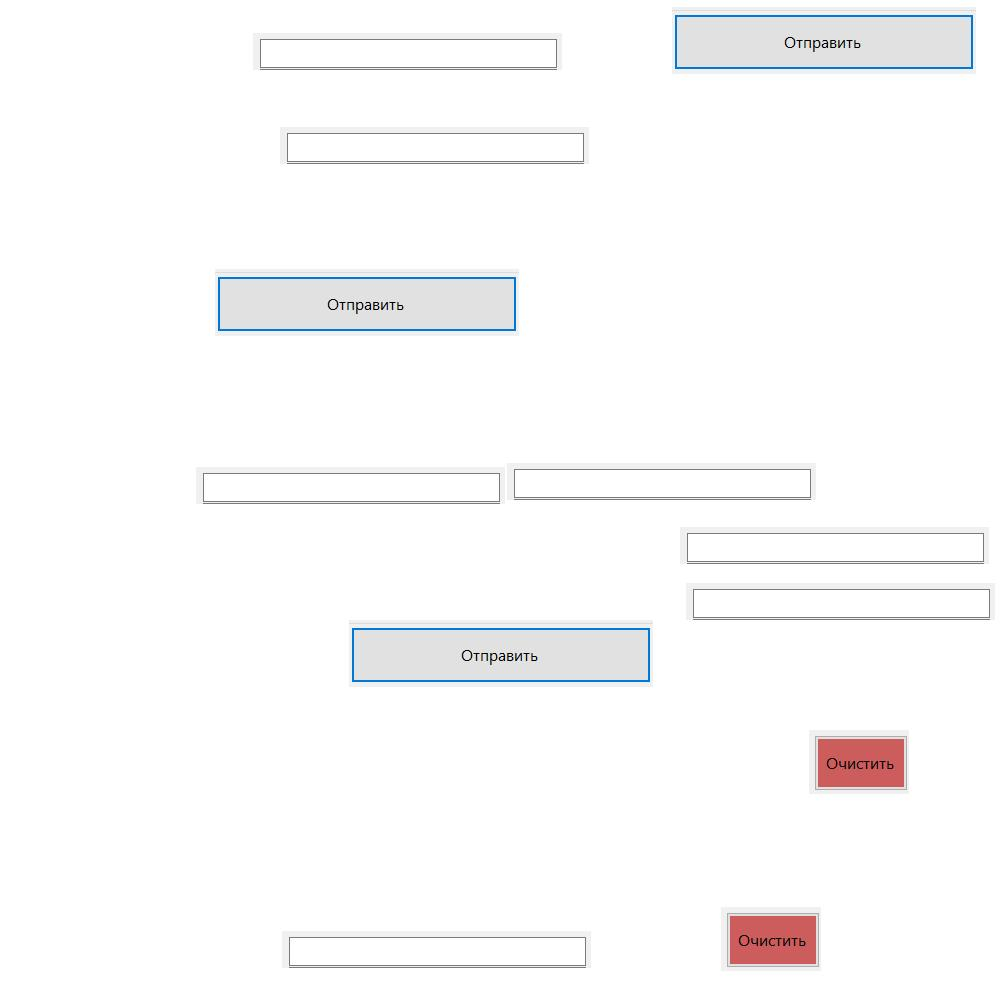Button: (215, 269, 519, 336), (349, 620, 653, 687), (672, 7, 976, 74), (721, 907, 821, 971), (809, 730, 909, 794)
EditText-: (282, 931, 591, 968), (686, 583, 995, 620), (680, 527, 989, 564), (196, 467, 505, 504), (507, 463, 816, 500), (280, 127, 589, 164), (253, 33, 562, 70)
